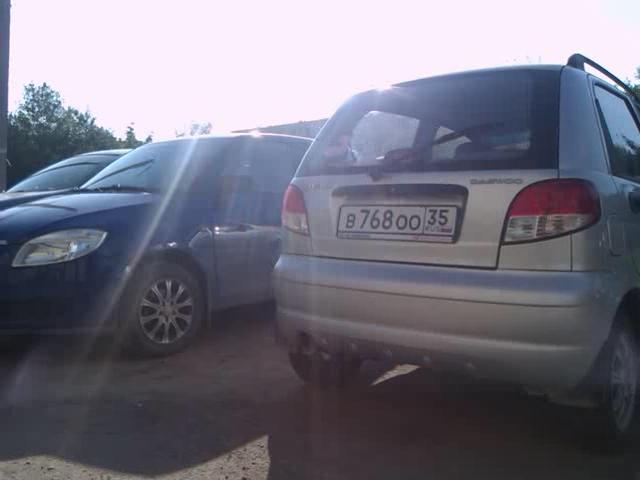car license plate: (335, 199, 460, 242)
